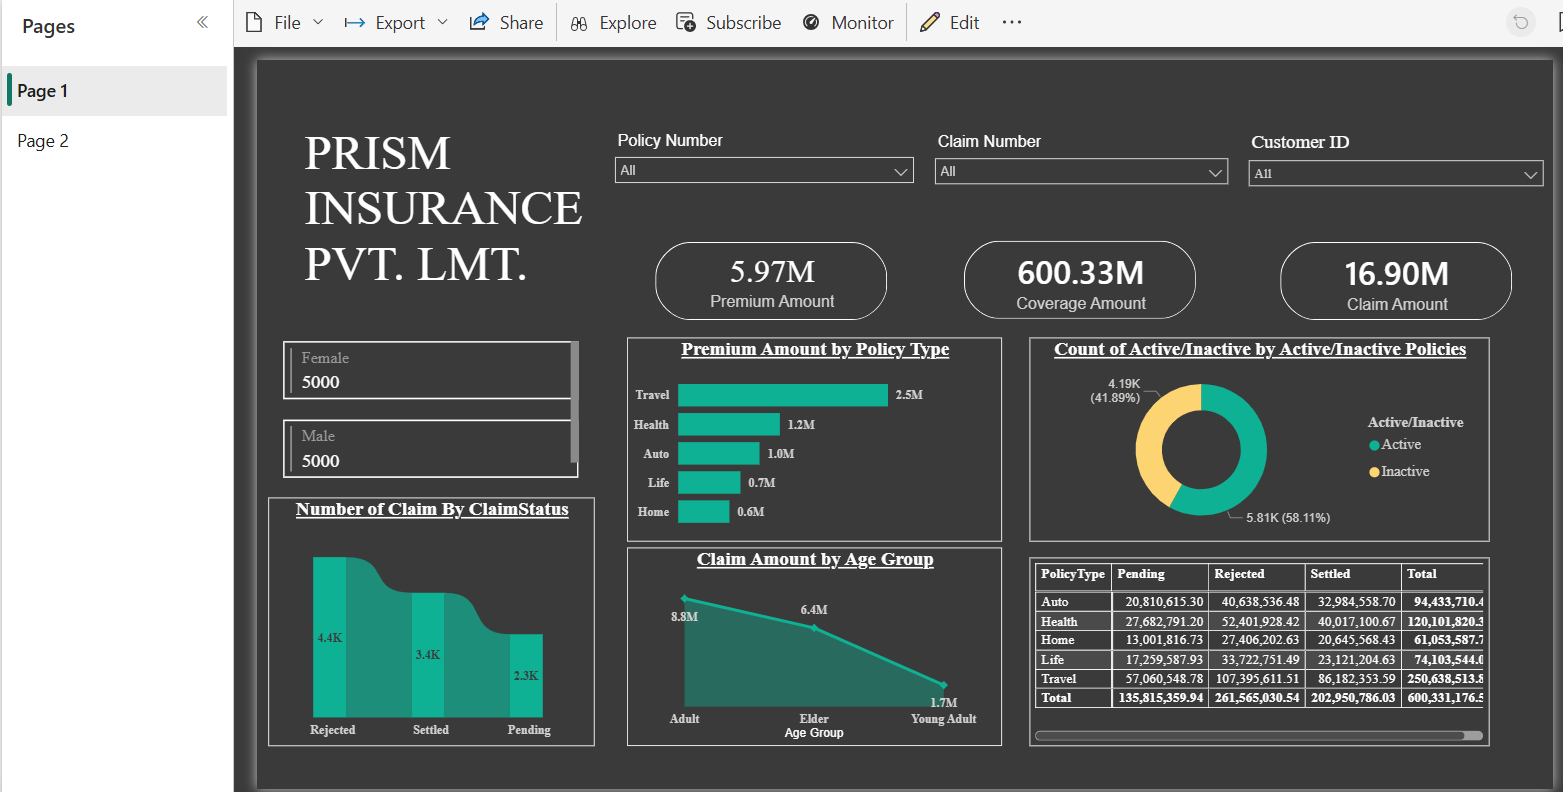

What the dashboard file says about the page in this screenshot:
{"tool":"powerbi","page":{"name":"Page 1","canvas":[1280,720],"ordinal":0},"visuals":[{"type":"slicer","fields":{"Values":["InsuranceData.PolicyNumber"]},"box":[343.1,65.9,315.6,94.7],"z":0},{"type":"slicer","fields":{"Values":["InsuranceData.ClaimNumber"]},"box":[658.7,67.2,310.1,94.7],"z":1000},{"type":"slicer","fields":{"Values":["InsuranceData.CustomerID"]},"box":[968.8,65.9,311.5,94.7],"z":2000},{"type":"textbox","box":[42.5,59,300.5,188],"z":3000},{"type":"cardVisual","fields":{"Data":["Sum(InsuranceData.PremiumAmount)"]},"box":[376,163.3,263.5,111.1],"z":4000},{"type":"cardVisual","fields":{"Data":["Sum(InsuranceData.CoverageAmount)"]},"box":[682,161.9,263.5,111.1],"z":5000},{"type":"cardVisual","fields":{"Data":["Sum(InsuranceData.ClaimAmount)"]},"box":[993.5,163.3,263.5,111.1],"z":6000},{"type":"multiRowCard","fields":{"Values":["InsuranceData.Gender","CountNonNull(InsuranceData.Gender)"]},"box":[20.6,273.1,301.9,146.8],"z":7000},{"type":"ribbonChart","title":"Number of Claim By ClaimStatus ","fields":{"Category":["InsuranceData.ClaimStatus"],"Y":["CountNonNull(InsuranceData.ClaimStatus)"]},"box":[11,432.2,322.5,245.6],"z":8000},{"type":"barChart","title":"Premium Amount by Policy Type","fields":{"Category":["InsuranceData.PolicyType"],"Y":["Sum(InsuranceData.PremiumAmount)"]},"box":[365,274.4,370.5,201.7],"z":9000},{"type":"lineChart","title":"Claim Amount by Age Group","fields":{"Y":["Sum(InsuranceData.ClaimAmount)"],"Category":["InsuranceData.Age Group"]},"box":[365,481.6,370.5,196.2],"z":10000},{"type":"donutChart","title":"Count of Active/Inactive by Active/Inactive Policies","fields":{"Category":["InsuranceData.Active/Inactive"],"Y":["CountNonNull(InsuranceData.Active/Inactive)"]},"box":[763,274.4,454.2,201.7],"z":11000},{"type":"pivotTable","fields":{"Values":["Sum(InsuranceData.CoverageAmount)"],"Rows":["InsuranceData.PolicyType"],"Columns":["InsuranceData.ClaimStatus"]},"box":[763,491.3,454.2,186.6],"z":12000}]}

Visuals, with their boxes on the page's 1280x720 design canvas (x1, y1, x2, y2). These are canvas units, not pixel positions in the 1563x792 screenshot, which may show the page scaled, cropped or inside an application window:
slicer - InsuranceData.PolicyNumber: {"left": 343, "top": 66, "right": 659, "bottom": 161}
slicer - InsuranceData.ClaimNumber: {"left": 659, "top": 67, "right": 969, "bottom": 162}
slicer - InsuranceData.CustomerID: {"left": 969, "top": 66, "right": 1280, "bottom": 161}
textbox: {"left": 42, "top": 59, "right": 343, "bottom": 247}
cardVisual - Sum(InsuranceData.PremiumAmount): {"left": 376, "top": 163, "right": 640, "bottom": 274}
cardVisual - Sum(InsuranceData.CoverageAmount): {"left": 682, "top": 162, "right": 946, "bottom": 273}
cardVisual - Sum(InsuranceData.ClaimAmount): {"left": 994, "top": 163, "right": 1257, "bottom": 274}
multiRowCard - InsuranceData.Gender x CountNonNull(InsuranceData.Gender): {"left": 21, "top": 273, "right": 322, "bottom": 420}
"Number of Claim By ClaimStatus " ribbonChart: {"left": 11, "top": 432, "right": 334, "bottom": 678}
"Premium Amount by Policy Type" barChart: {"left": 365, "top": 274, "right": 736, "bottom": 476}
"Claim Amount by Age Group" lineChart: {"left": 365, "top": 482, "right": 736, "bottom": 678}
"Count of Active/Inactive by Active/Inactive Policies" donutChart: {"left": 763, "top": 274, "right": 1217, "bottom": 476}
pivotTable - Sum(InsuranceData.CoverageAmount) x InsuranceData.PolicyType: {"left": 763, "top": 491, "right": 1217, "bottom": 678}
